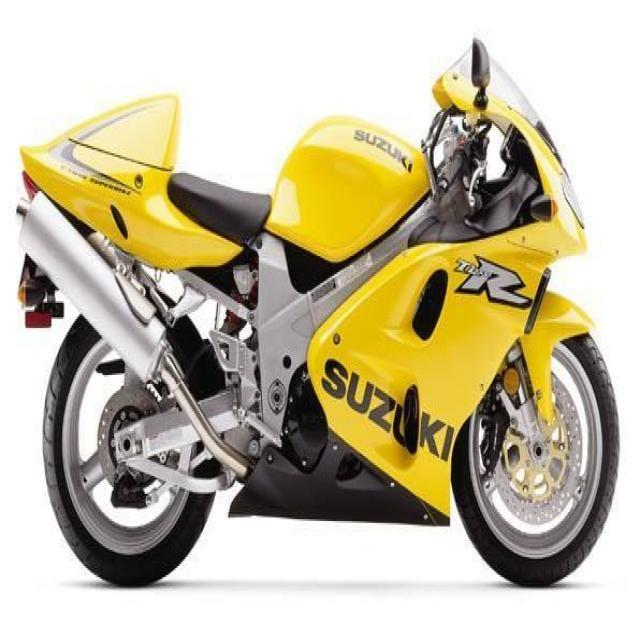Motorcycle: (17, 41, 620, 588)
